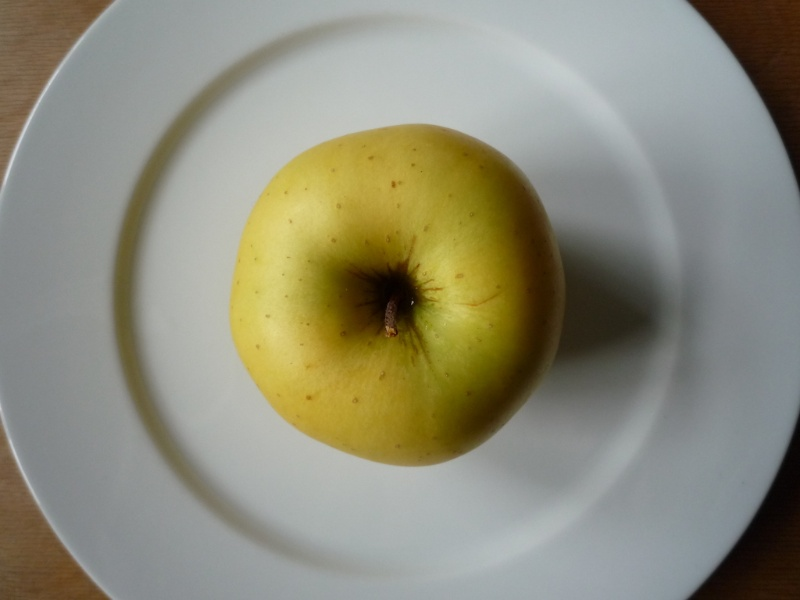apple: (218, 108, 573, 469)
